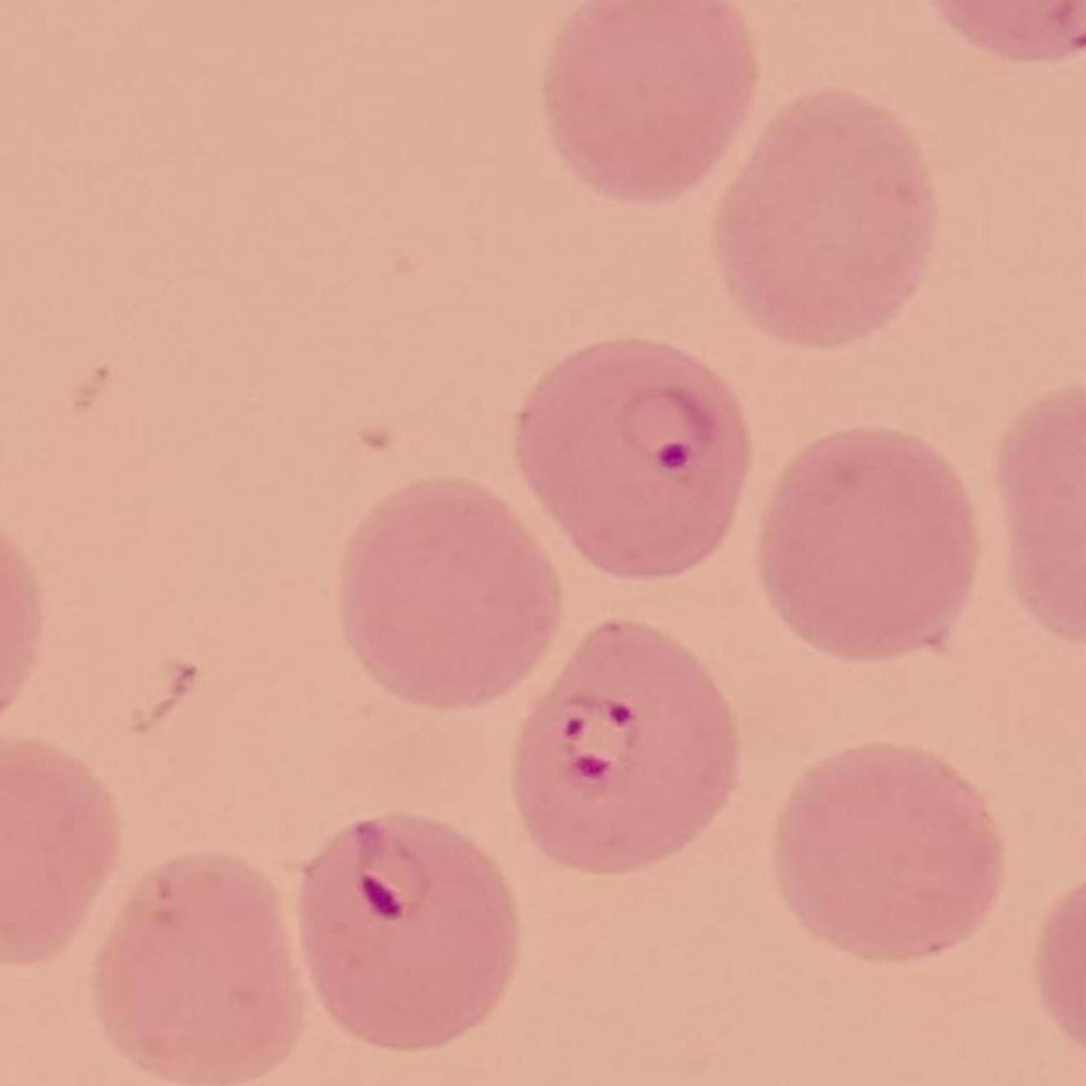Infected: (515, 336, 755, 583), (513, 624, 740, 872), (300, 812, 513, 1049)
Uninfected: (719, 86, 937, 345), (774, 741, 1006, 967), (340, 478, 562, 708), (759, 430, 979, 661), (98, 862, 300, 1086), (546, 0, 758, 207)
